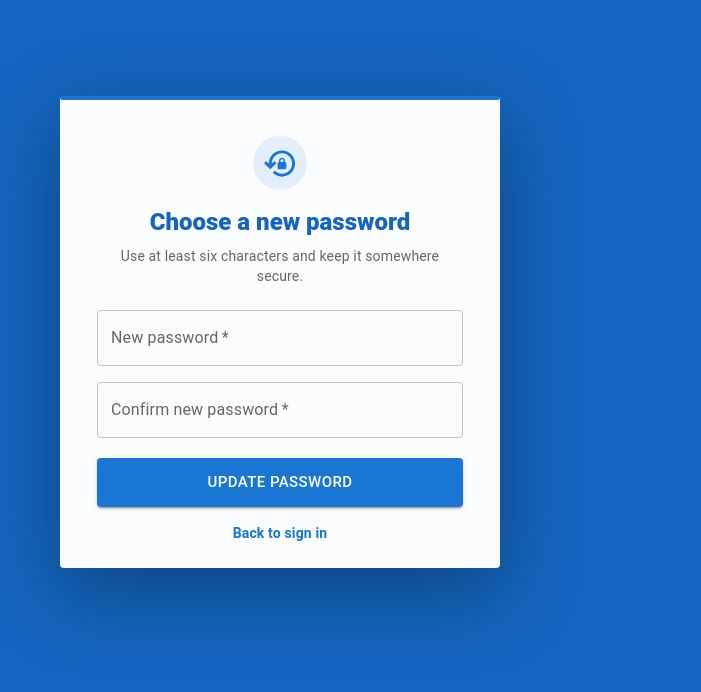
ResetPassword › updates the password and returns to login with confirmation
Type "newpass" into the password field labelled "New password *" at (280, 338), box [97,310,463,366]
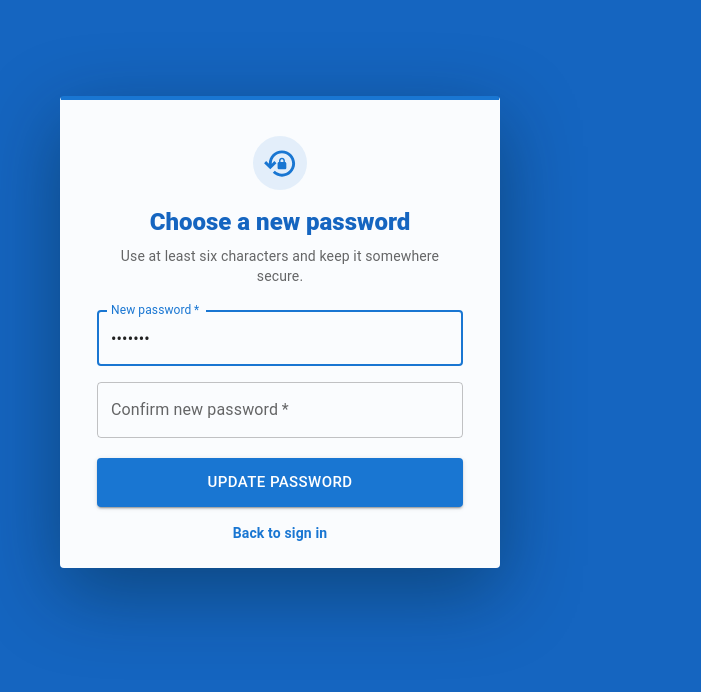
Type "newpass" into the password field labelled "Confirm new password *" at (280, 410), box [97,382,463,438]
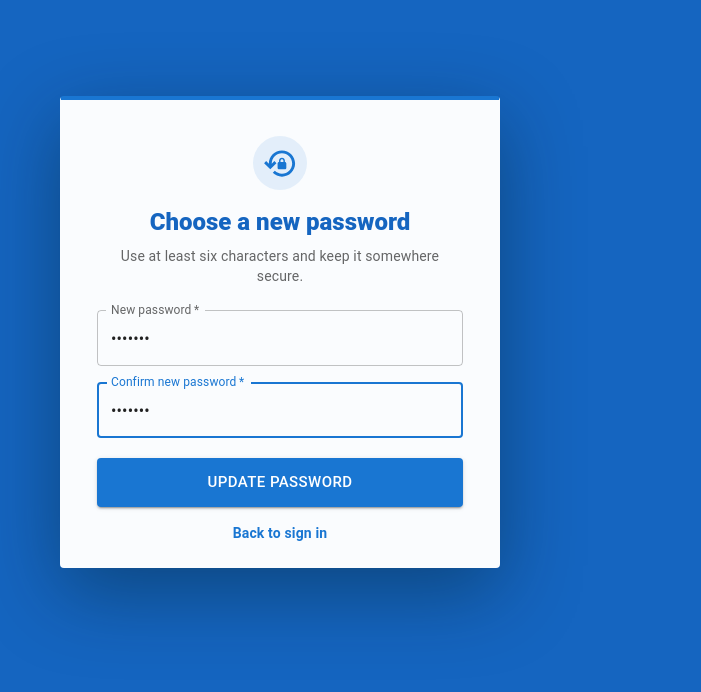
Click the button "Update password" at (280, 482), box [97,458,463,507]
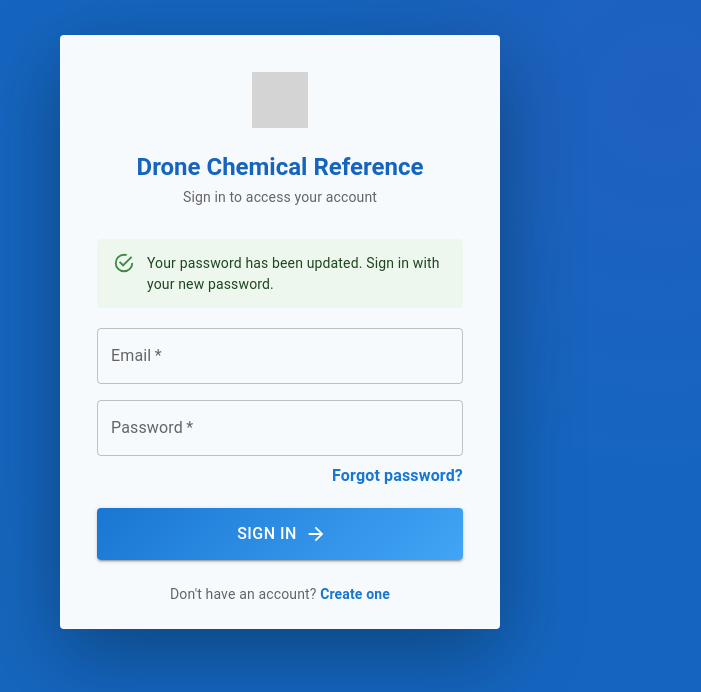
Expected: the text "Your password has been updated. Sign in with your new password." is shown, [147,246,447,302]
